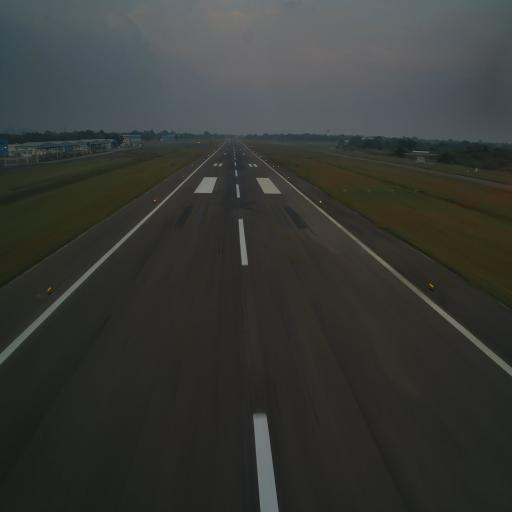on: (428, 280, 434, 289), (47, 283, 51, 292), (318, 198, 322, 206), (153, 197, 157, 204)
